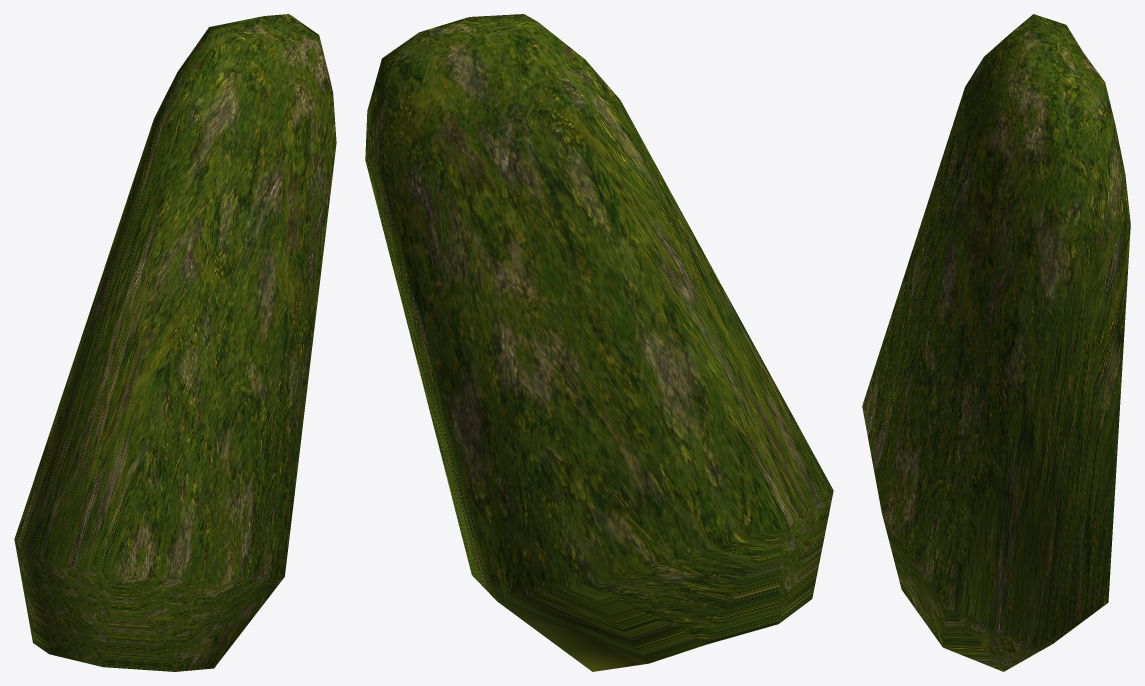
File: OVERHILL_A_01_LINE326.fbx
3 renders of one model, left to right at view 1: azimuth 30°, elevation 25°; view 2: azimuth 150°, elevation 25°; view 3: azimuth 270°, elevation 25°, orthographic. The views are drawn at different scales.
Parts seen in each view (by area): view 1: OVERHILL_A_01_LINE326; view 2: OVERHILL_A_01_LINE326; view 3: OVERHILL_A_01_LINE326.
Part boxes in pixels (box(x1,y1,x2,y2)): OVERHILL_A_01_LINE326: box(14, 14, 336, 671); OVERHILL_A_01_LINE326: box(365, 14, 833, 671); OVERHILL_A_01_LINE326: box(862, 14, 1130, 671).
Bounding box in the file's own units: 35960 × 55972 × 20303.
1 material, 1 textured.
